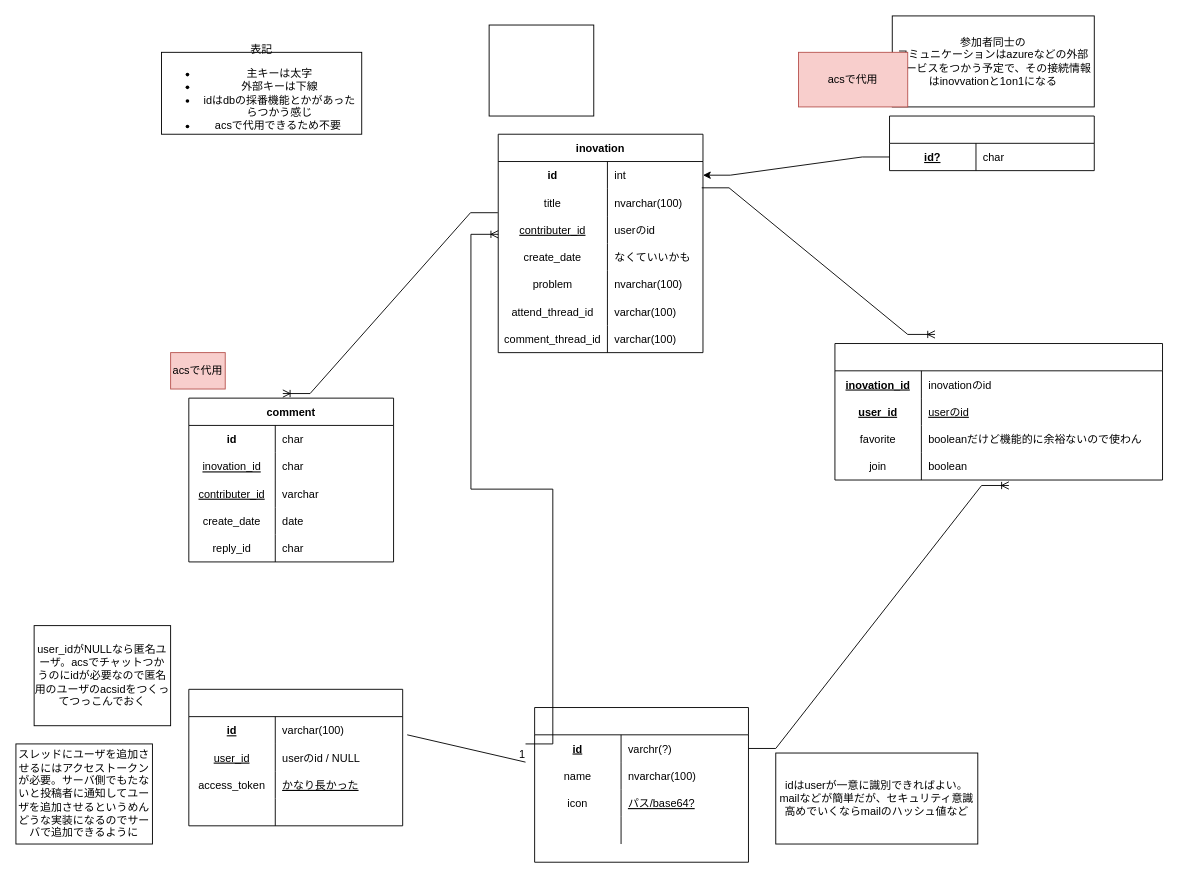
Image size: 1178x878. Some labels were removed from this diagram. Here are the shapes that lost their labels. From the top down, the box of each, then its label:
(488, 24, 594, 116): どんな情報のせるかが未定。 困りごと 必要なスキルなど
(889, 115, 1094, 171): team_communication
(834, 343, 1163, 480): gacha_result
(188, 688, 403, 826): acs_id
(534, 707, 748, 862): user
